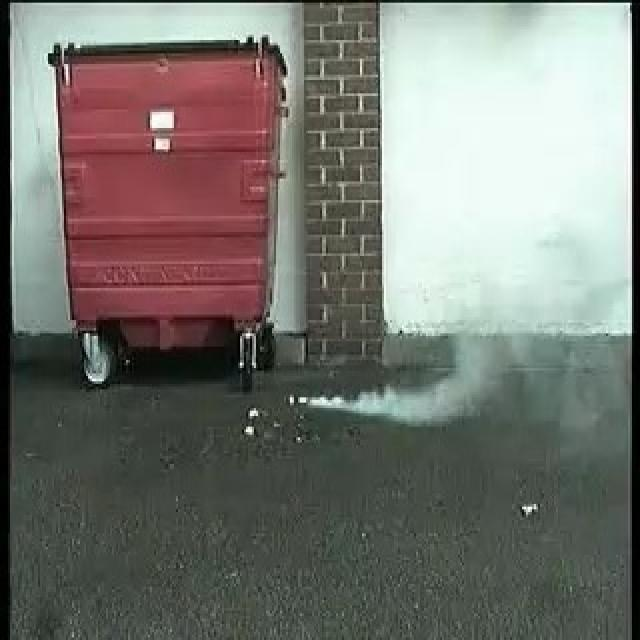smoke: (317, 353, 502, 419)
